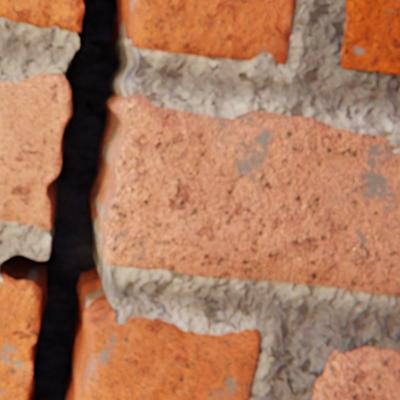brick: (310, 346, 399, 399), (339, 0, 399, 74)
broken_brick: (99, 94, 399, 295), (75, 297, 259, 399), (0, 73, 70, 229), (126, 0, 293, 64), (0, 275, 40, 399), (0, 0, 83, 32)
crack: (0, 0, 130, 399)
